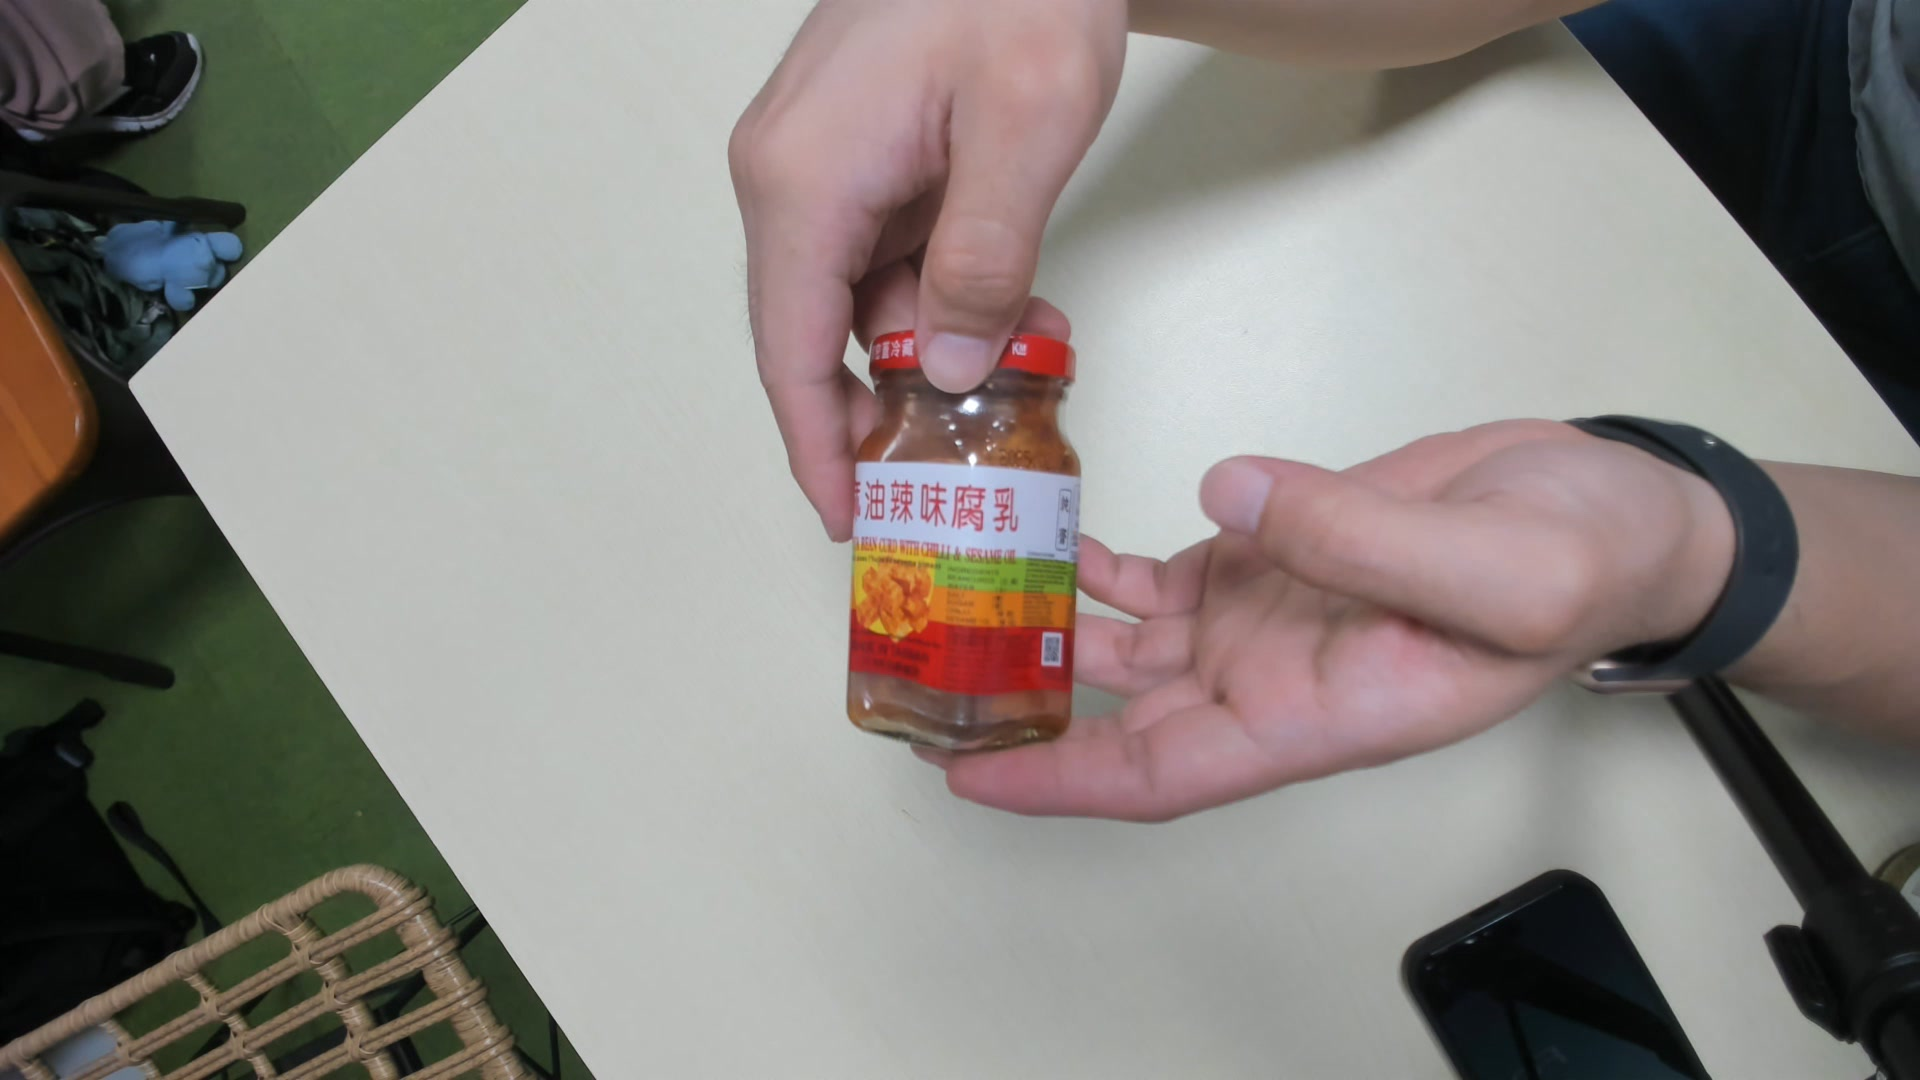OtherSauceDressing_100-199g_NonHalal_NonHealthy: (848, 338, 1075, 756)
